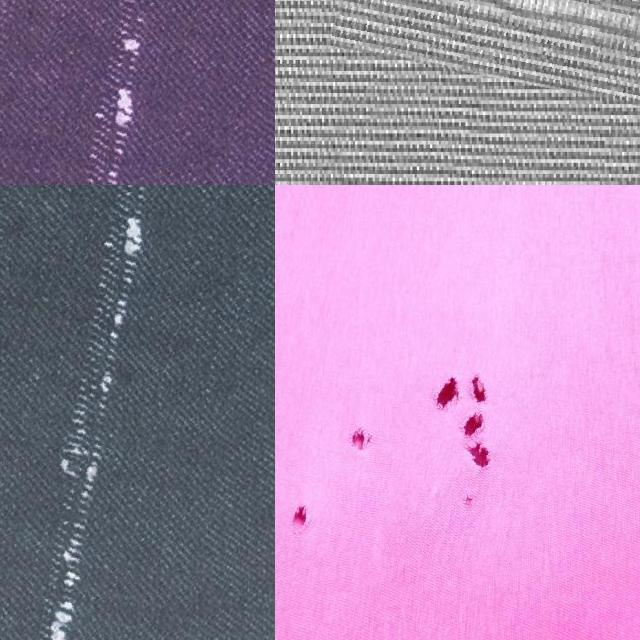Thread_other: (0, 185, 257, 640), (336, 0, 640, 113)
seam: (390, 326, 548, 575), (316, 389, 388, 474), (275, 475, 342, 549)
